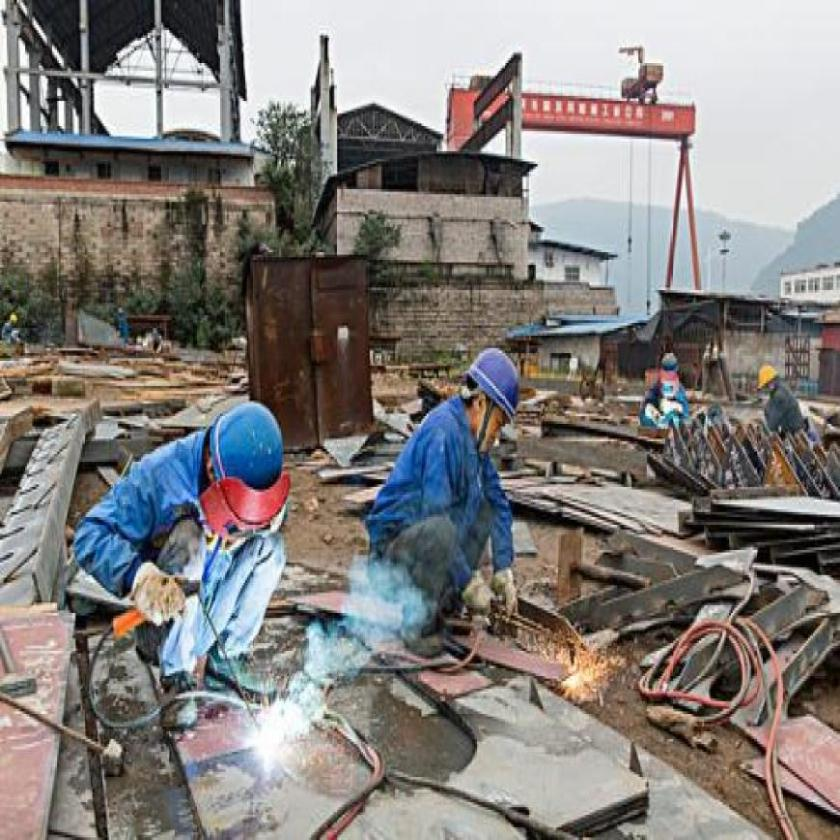Con_casco: (453, 350, 524, 451)
